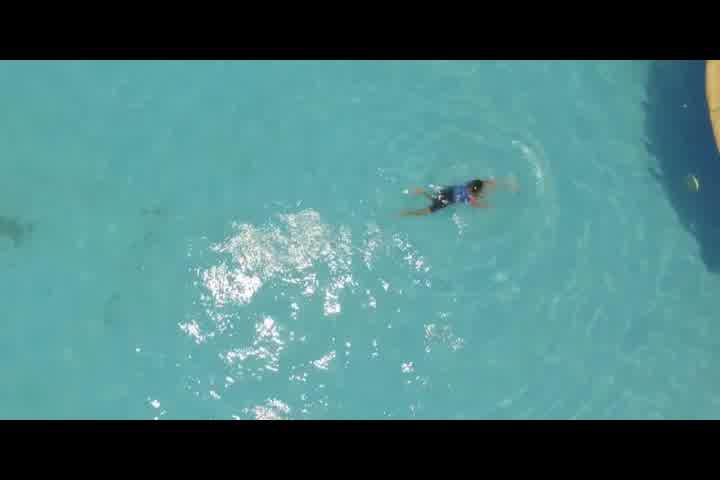human: (400, 176, 492, 218)
